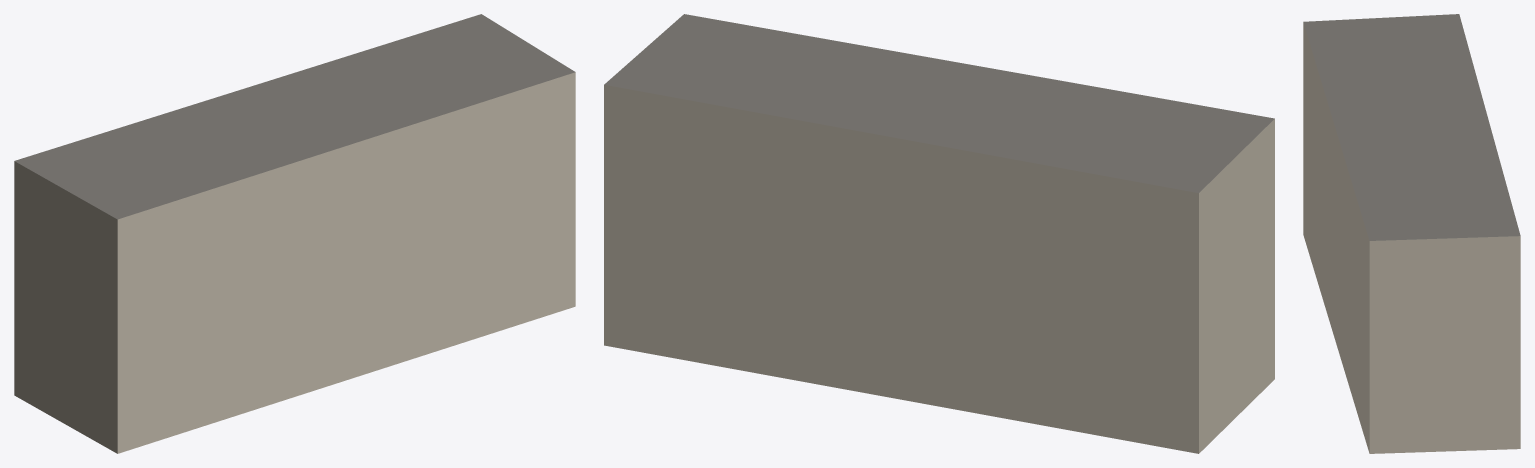
3 views of the same model, side by side, from view 1: azimuth 30°, elevation 25°; view 2: azimuth 150°, elevation 25°; view 3: azimuth 270°, elevation 25° (orthographic). The views are drawn at different scales.
Parts seen in each view (by area): view 1: HP-w505641162; view 2: HP-w505641162; view 3: HP-w505641162.
Boxes of the visible parts, x1,y1,x2,y2 form: HP-w505641162: (14,14,575,453); HP-w505641162: (604,14,1274,453); HP-w505641162: (1303,14,1520,453).
Size of the model in its own units: 41.15 by 18 by 16.65.
